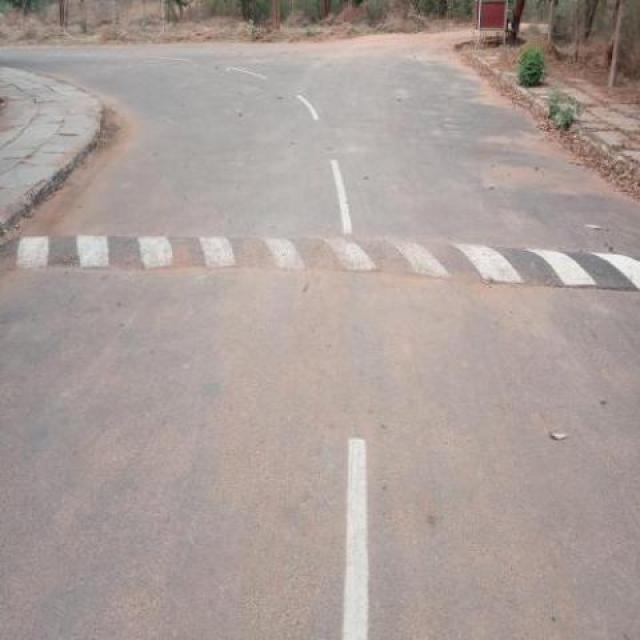Speed Bump: (8, 229, 640, 292)
